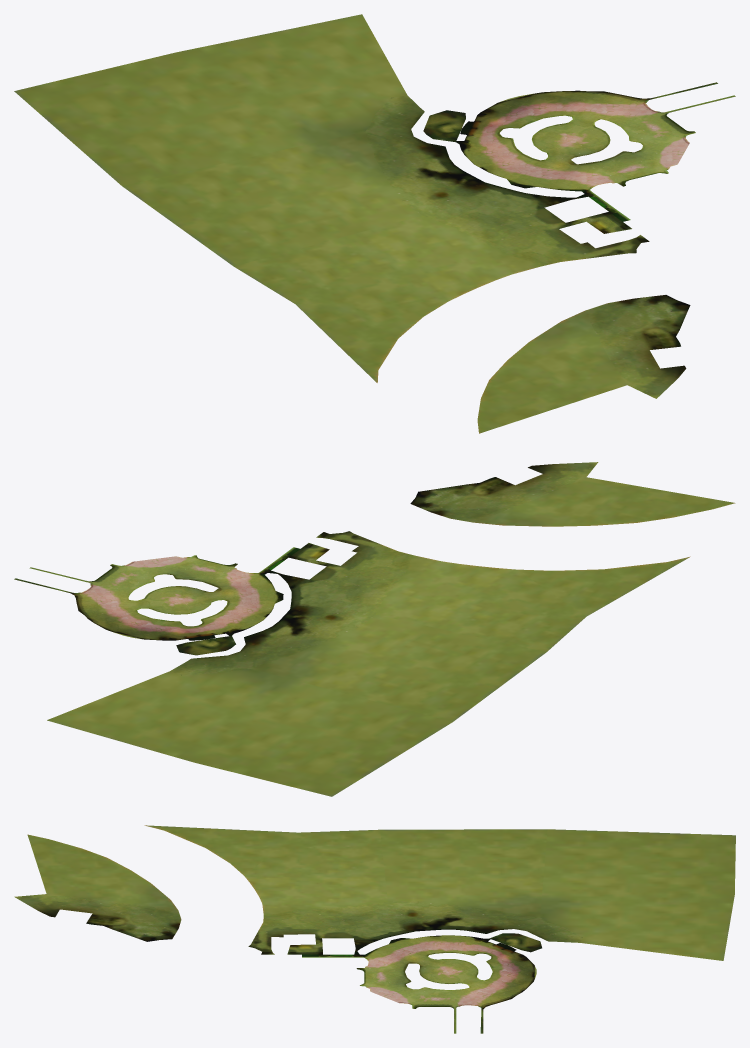
The model's file is pref_sm_garden_terrain_01_lv1.fbx.
3 views of the same model, one above another, from view 1: azimuth 30°, elevation 25°; view 2: azimuth 150°, elevation 25°; view 3: azimuth 270°, elevation 25° (orthographic). The views are drawn at different scales.
Visible parts, largest first — view 1: pref_sm_garden_terrain_01_lv1; view 2: pref_sm_garden_terrain_01_lv1; view 3: pref_sm_garden_terrain_01_lv1.
Boxes of the visible parts, x1=… form: pref_sm_garden_terrain_01_lv1: x1=14, y1=14, x2=735, y2=433; pref_sm_garden_terrain_01_lv1: x1=14, y1=462, x2=735, y2=796; pref_sm_garden_terrain_01_lv1: x1=14, y1=825, x2=735, y2=1033.
Bounding box in the file's own units: 108 × 0.000631 × 158.
